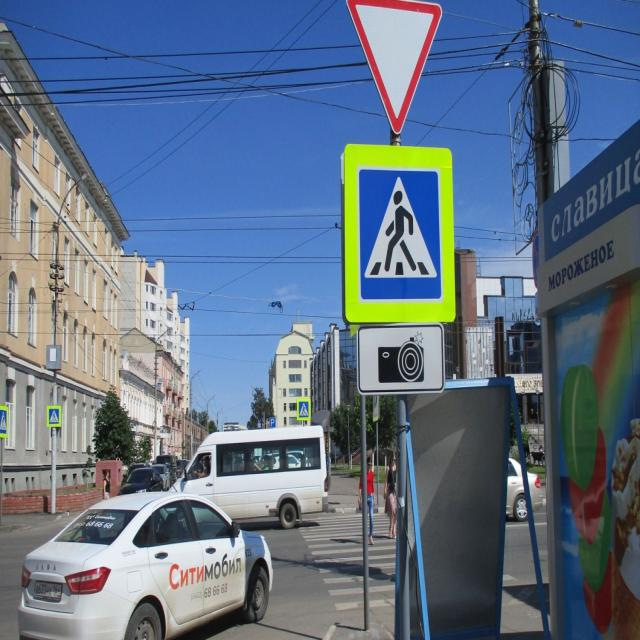Traffic sign: (342, 144, 459, 326), (343, 0, 447, 140), (353, 317, 455, 398), (296, 396, 312, 424), (0, 404, 11, 443), (47, 407, 64, 429)
